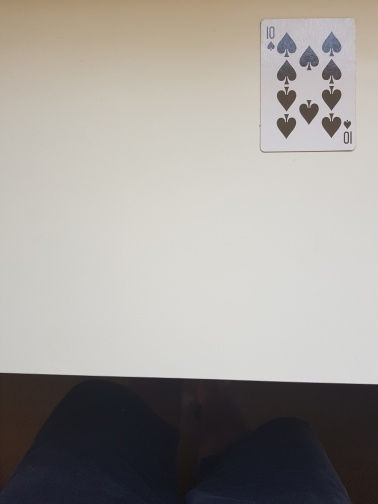ten: (258, 17, 357, 154)
